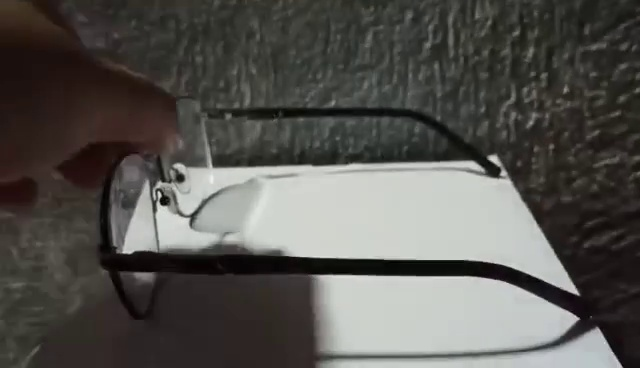glasses: (98, 95, 598, 331)
